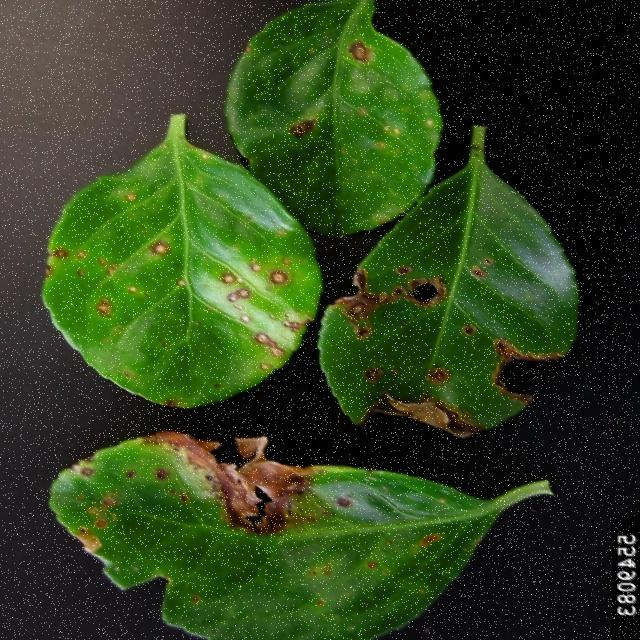shot_hole: (31, 110, 326, 418), (317, 154, 586, 450)
